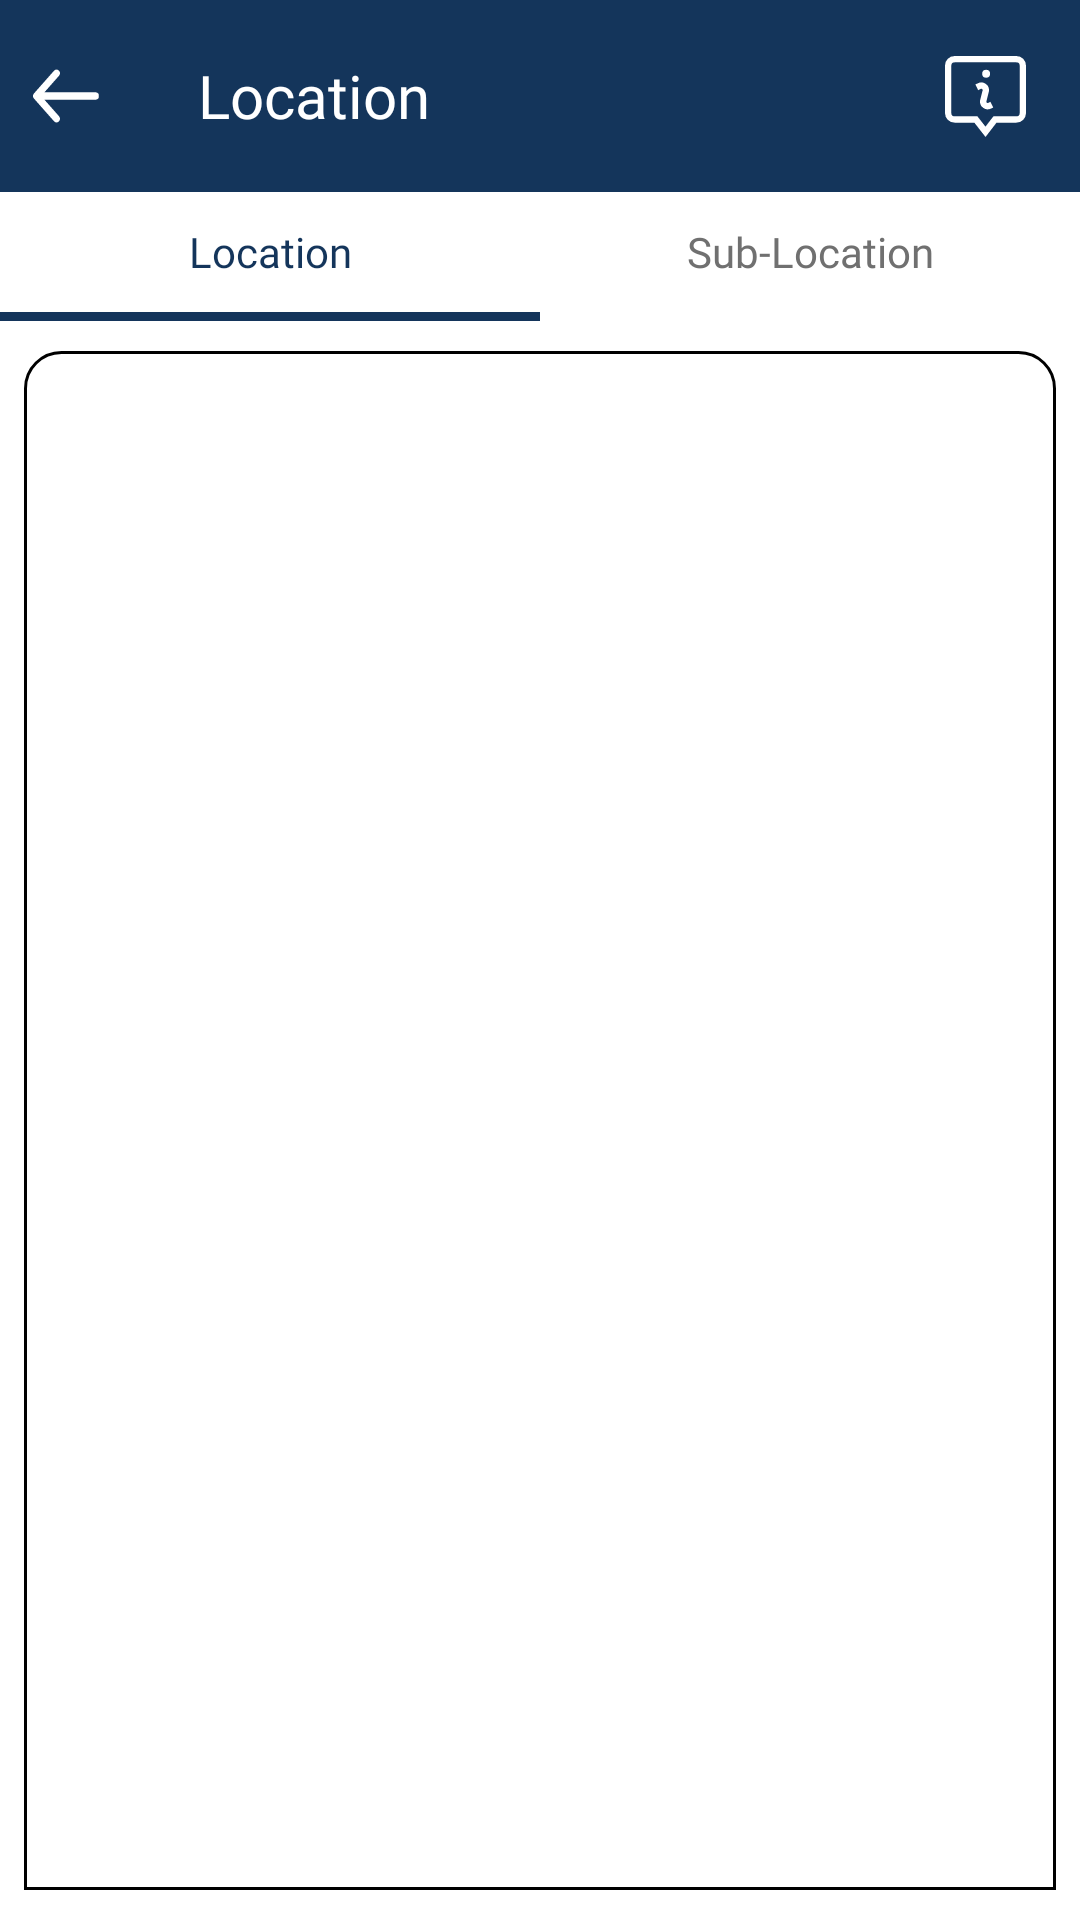

Point at icon controls on the screen. Image size 1080px x 1920px, points as (x,y).
back: (66,96)
info: (985,96)
